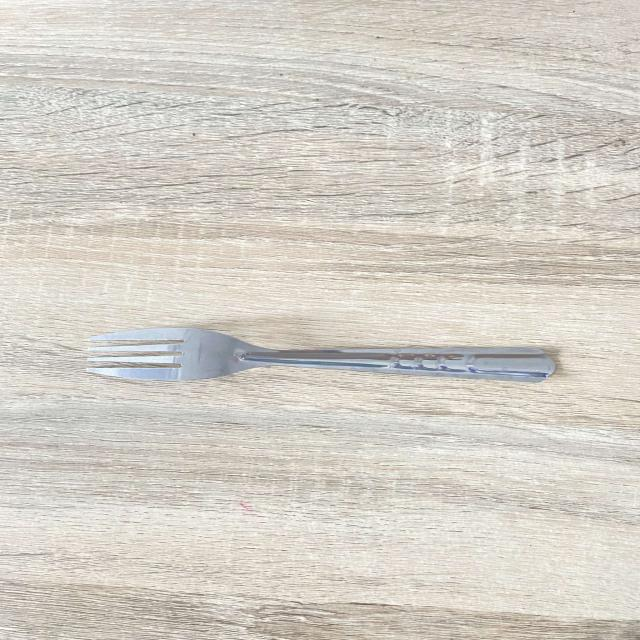fork: (69, 322, 564, 403)
